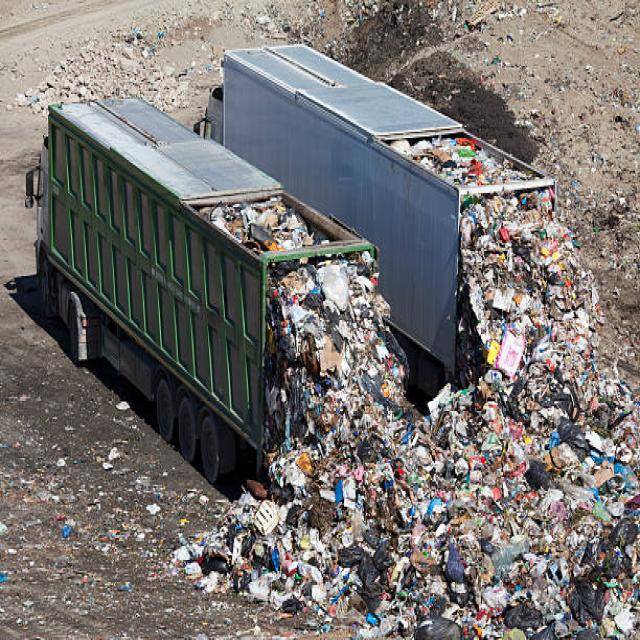trash: (258, 237, 622, 615)
